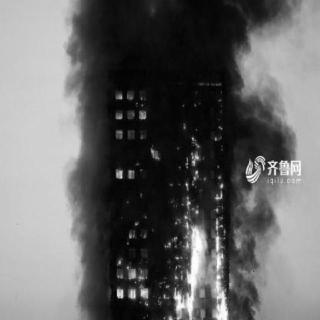Fire: (175, 140, 231, 318)
